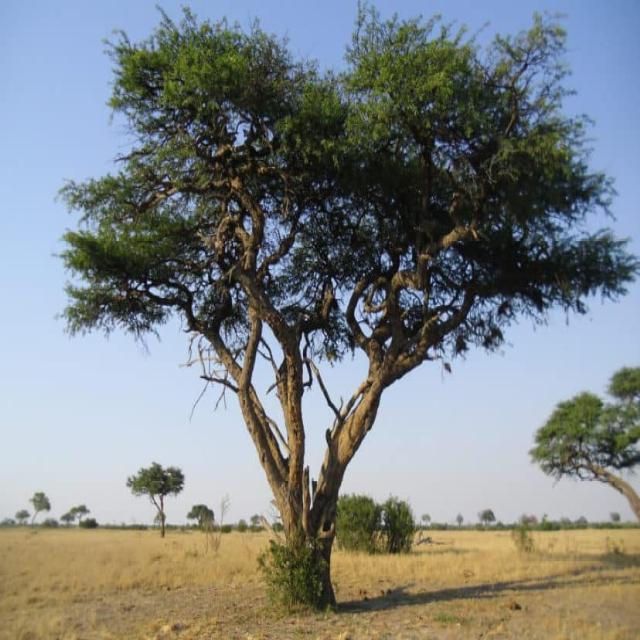Acacia: (58, 20, 636, 589)
